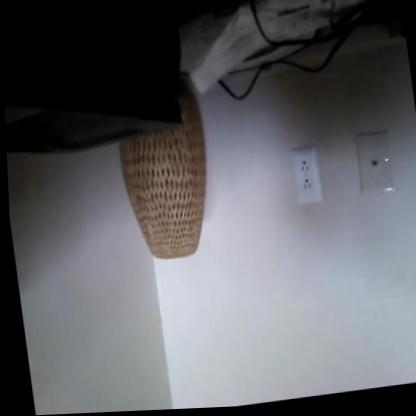OUTLET: (292, 149, 324, 204)
